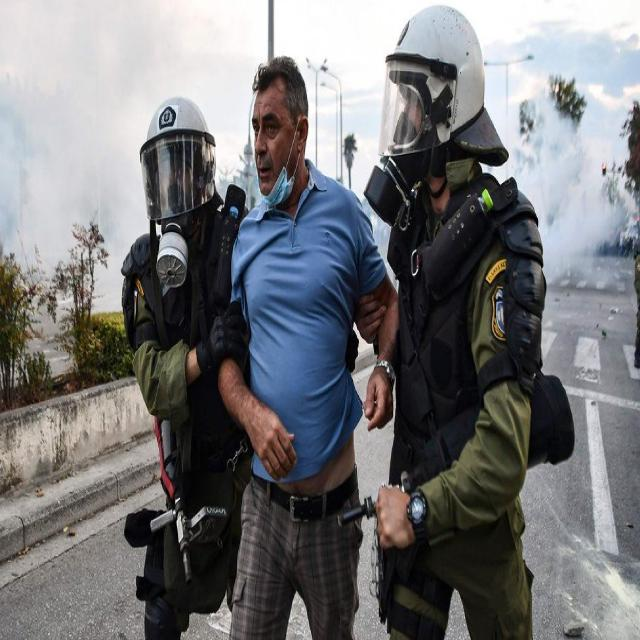police: (340, 9, 550, 640), (129, 86, 255, 640)
